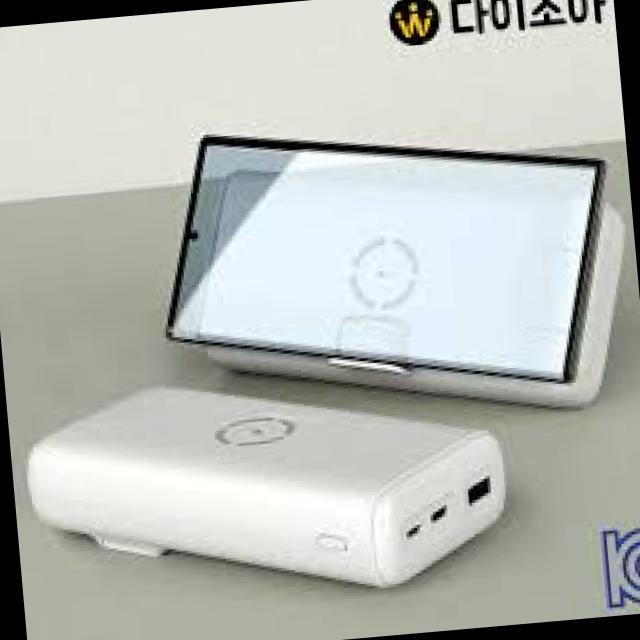portable-charger: (188, 136, 634, 446), (23, 350, 522, 626)
